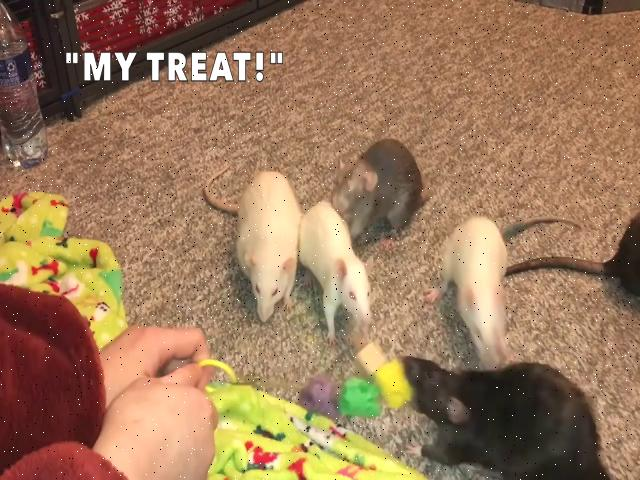Tikus: (400, 350, 604, 480), (441, 205, 516, 368), (233, 166, 301, 317), (301, 194, 370, 340), (332, 136, 422, 234)
